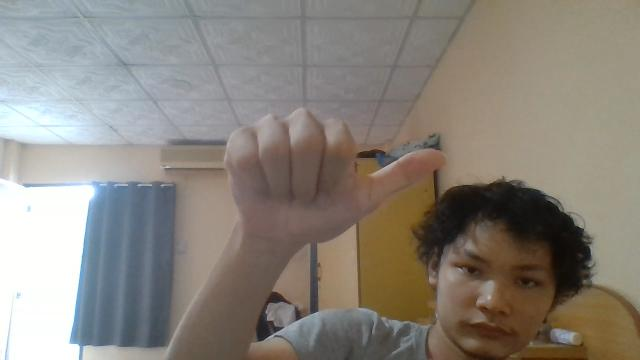left: (222, 107, 446, 249)
